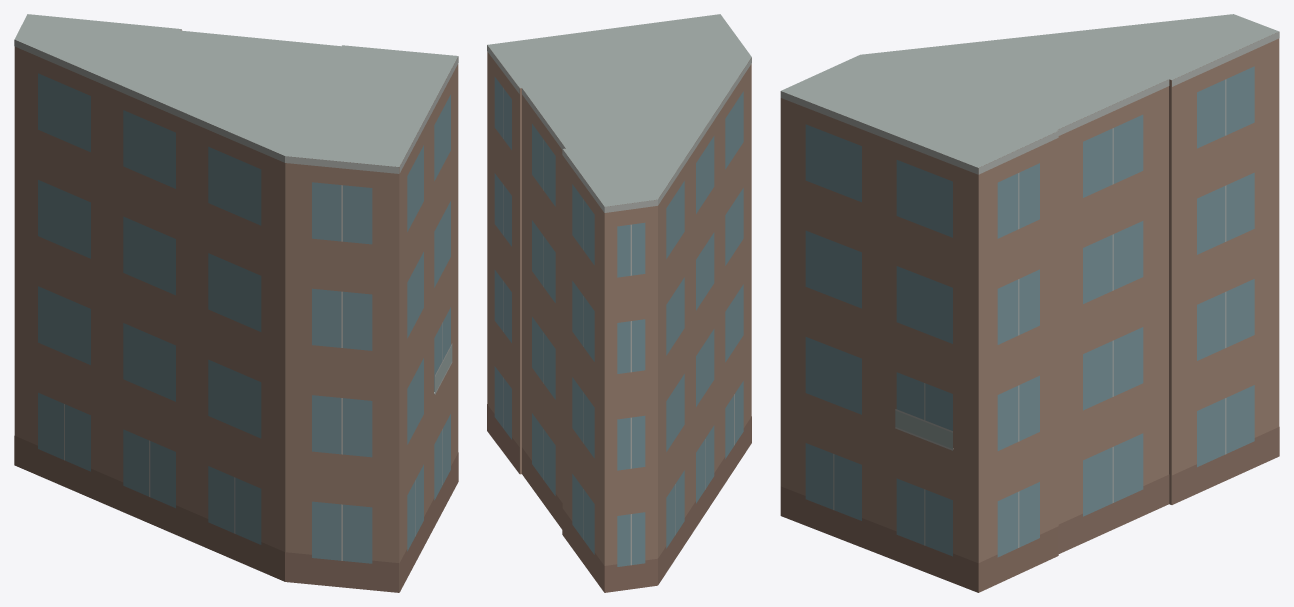
Rendered from survey-upis-33011699.glb.
3 renders of one model, left to right at view 1: azimuth 30°, elevation 25°; view 2: azimuth 150°, elevation 25°; view 3: azimuth 270°, elevation 25°, orthographic. The views are drawn at different scales.
Parts seen in each view (by area): view 1: survey-upis-33011699.tmp; view 2: survey-upis-33011699.tmp; view 3: survey-upis-33011699.tmp.
Boxes of the visible parts, x1,y1,x2,y2 form: survey-upis-33011699.tmp: (14, 14, 458, 592); survey-upis-33011699.tmp: (487, 14, 751, 592); survey-upis-33011699.tmp: (780, 14, 1279, 592).
Bounding box in the file's own units: 11.79 × 15.16 × 16.14.
